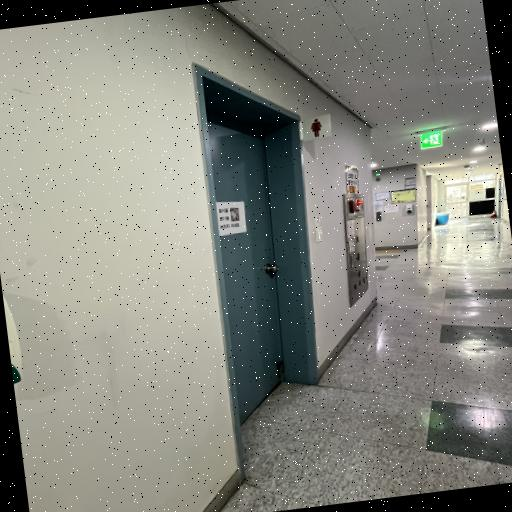door: (194, 63, 320, 480)
